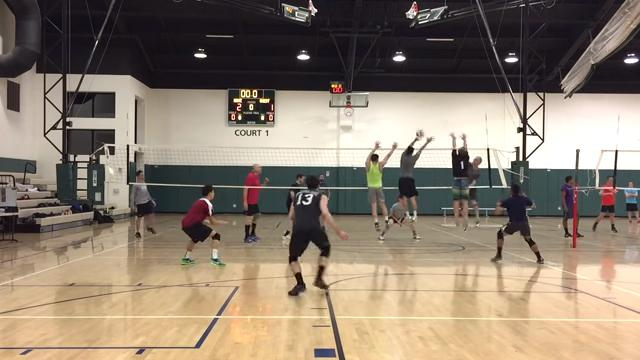attacco: (466, 152, 485, 228)
muro: (394, 133, 433, 223), (362, 138, 393, 238), (446, 129, 471, 231)
